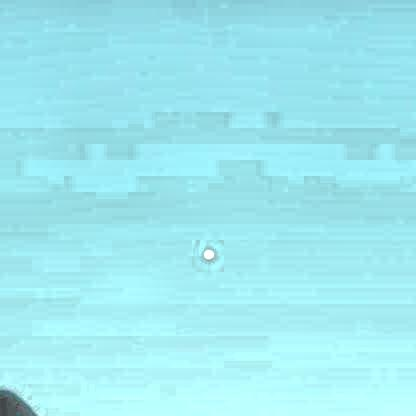golfball: (200, 245, 214, 260)
